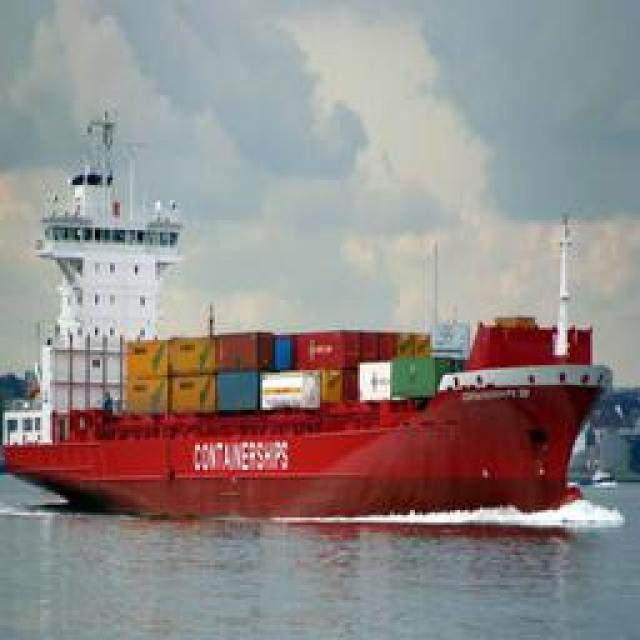CIV_Ship: (16, 262, 622, 522)
